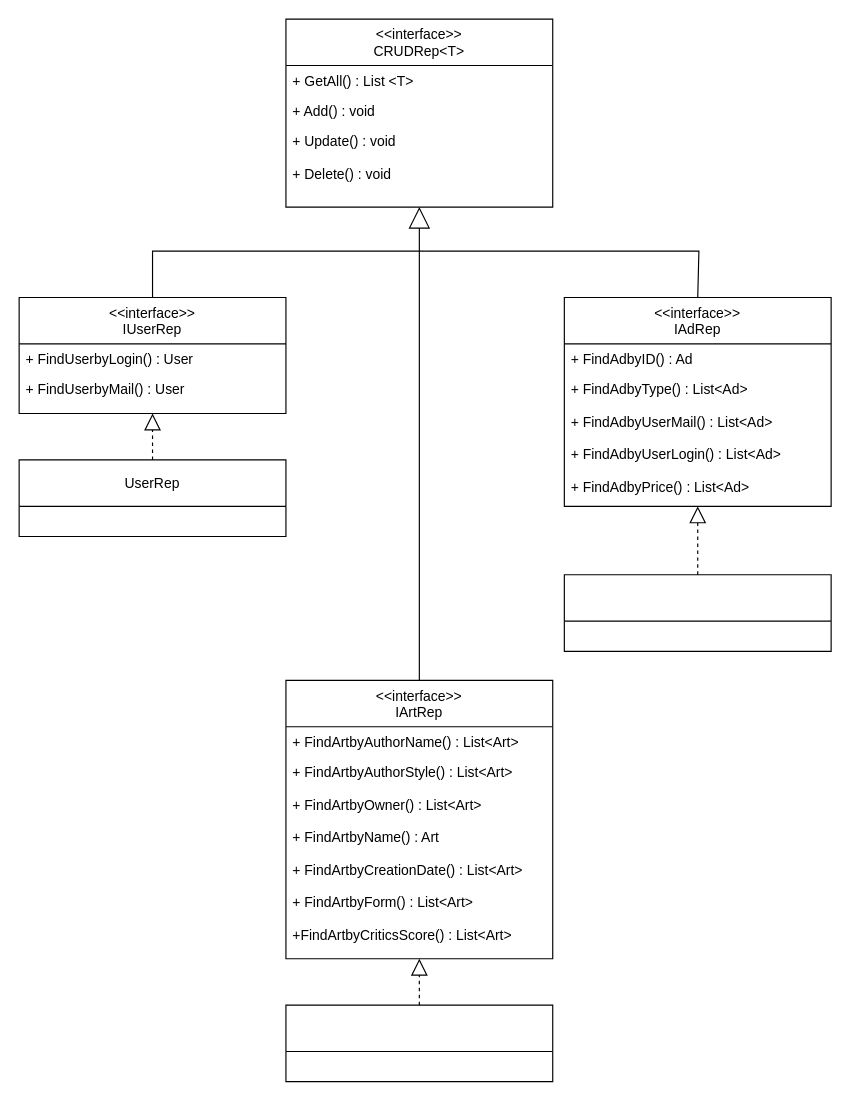
Image size: 850x1101. Some labels were removed from this diagram. The box of each missing label's shape, as (x1, y1, x2, y2) in pixels:
AdRep: (563, 574, 831, 651)
ArtRep: (285, 1004, 553, 1082)
